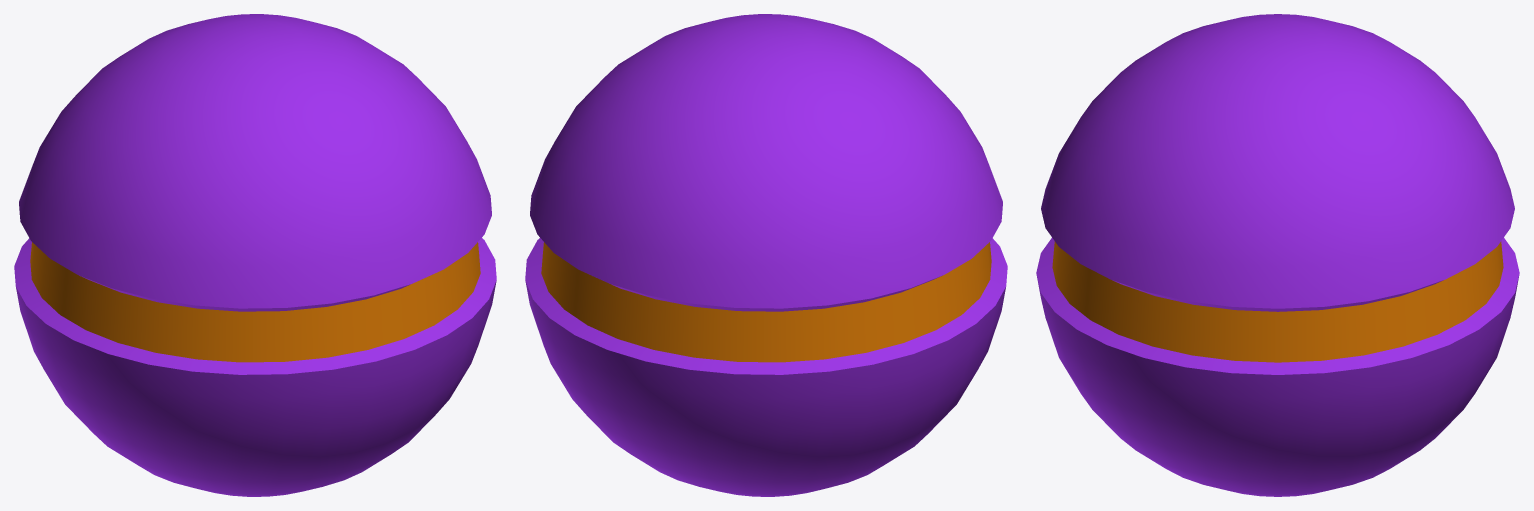
The picture shows the model from 3 angles, left to right: view 1: azimuth 30°, elevation 25°; view 2: azimuth 150°, elevation 25°; view 3: azimuth 270°, elevation 25°; orthographic projection.
Parts seen in each view (by area): view 1: Sphere; view 2: Sphere; view 3: Sphere.
Part boxes in pixels (x1=…): Sphere: x1=14, y1=14, x2=496, y2=496; Sphere: x1=525, y1=14, x2=1007, y2=496; Sphere: x1=1036, y1=14, x2=1519, y2=496.
Bounding box in the file's own units: 200 × 200 × 200.
